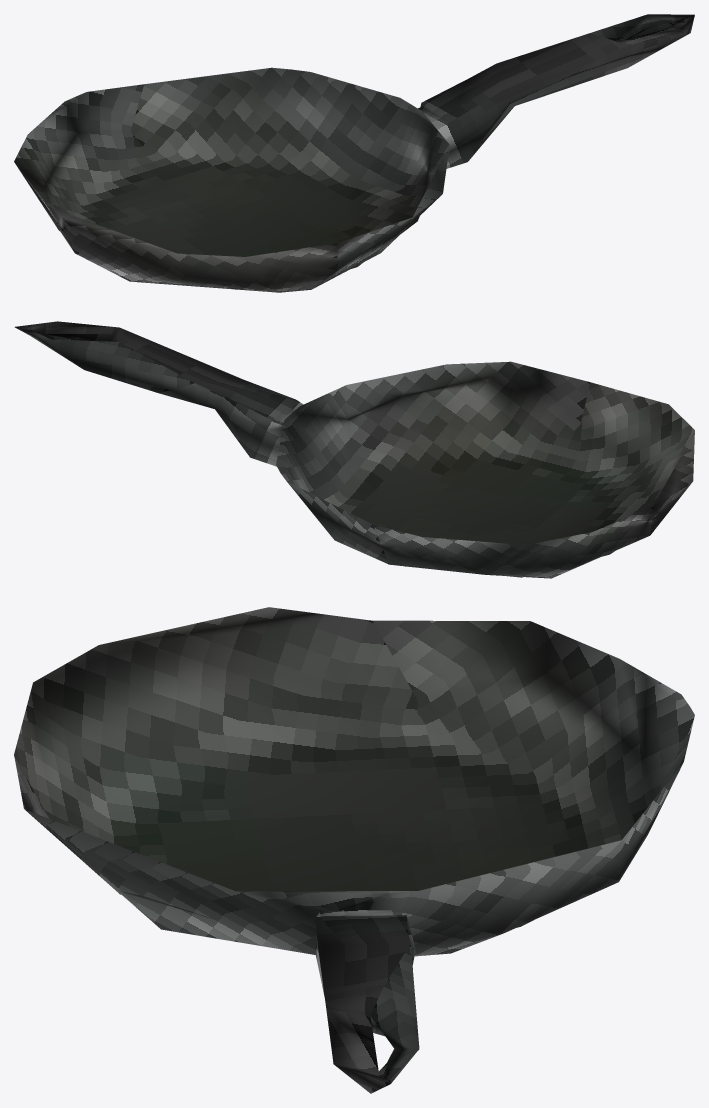
File: Chefmate_8_Frypan-low.glb
The picture shows the model from 3 angles, top to bottom: view 1: azimuth 30°, elevation 25°; view 2: azimuth 150°, elevation 25°; view 3: azimuth 270°, elevation 25°; orthographic projection. The views are drawn at different scales.
Parts seen in each view (by area): view 1: Chefmate_8_Frypan; view 2: Chefmate_8_Frypan; view 3: Chefmate_8_Frypan.
Part boxes in pixels (x1,y1,x2,y2): Chefmate_8_Frypan: (14, 14, 694, 292); Chefmate_8_Frypan: (14, 321, 694, 578); Chefmate_8_Frypan: (14, 607, 694, 1093).
Bounding box in the file's own units: 0.3524 × 0.0542 × 0.196.
Materials: 1 (1 with a texture image).
